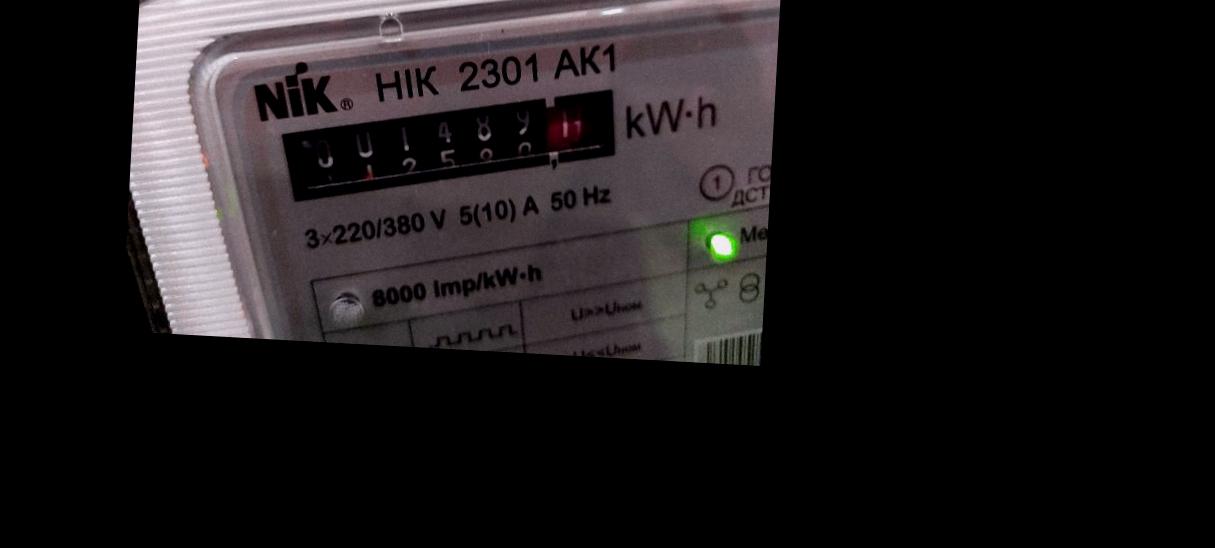0: (350, 122, 378, 159), (311, 134, 337, 170)
1: (554, 101, 575, 140), (394, 120, 416, 152)
4: (433, 112, 456, 145)
8: (473, 107, 496, 144)
9: (512, 103, 534, 136)
screen: (266, 60, 648, 231)
